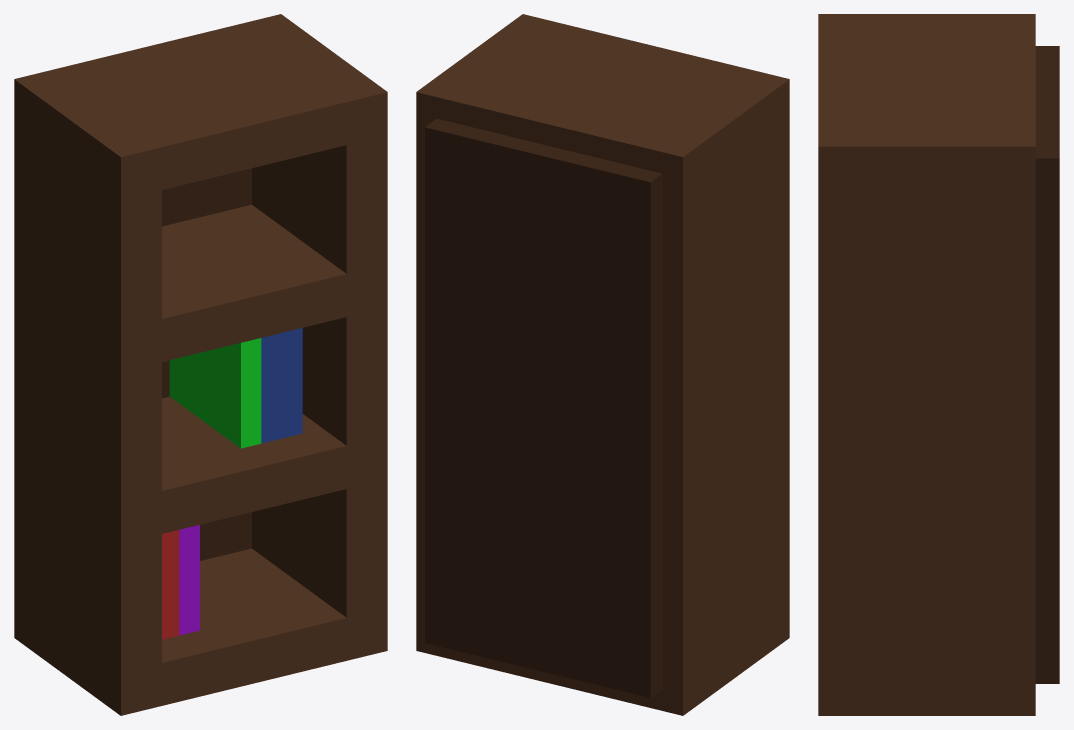
The model's file is bookshelf.gltf.
The picture shows the model from 3 angles, left to right: view 1: azimuth 30°, elevation 25°; view 2: azimuth 150°, elevation 25°; view 3: azimuth 270°, elevation 25°; orthographic projection.
Visible parts, largest first — view 1: Layer.1; view 2: Layer.1; view 3: Layer.1.
Boxes of the visible parts, left/top/right/bottom form: Layer.1: left=14, top=14, right=387, bottom=715; Layer.1: left=416, top=14, right=789, bottom=715; Layer.1: left=818, top=14, right=1059, bottom=715.
Size of the model in its own units: 13 by 26 by 10.
Materials: 1 (1 with a texture image).
